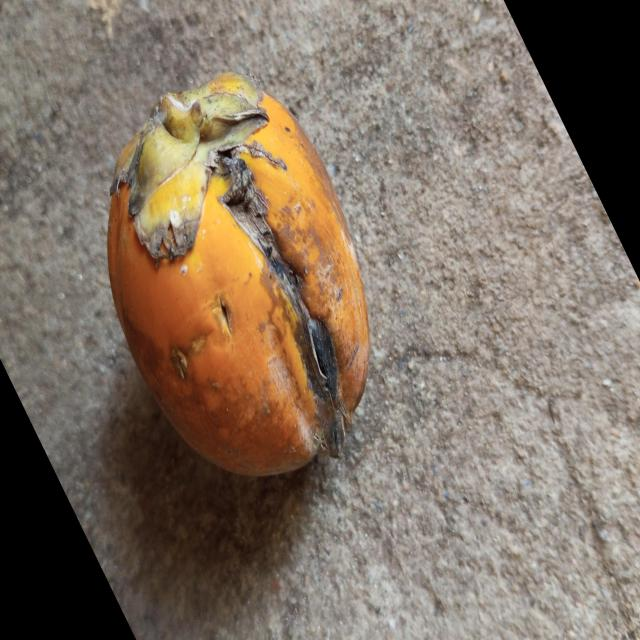damaged: (106, 74, 371, 480)
